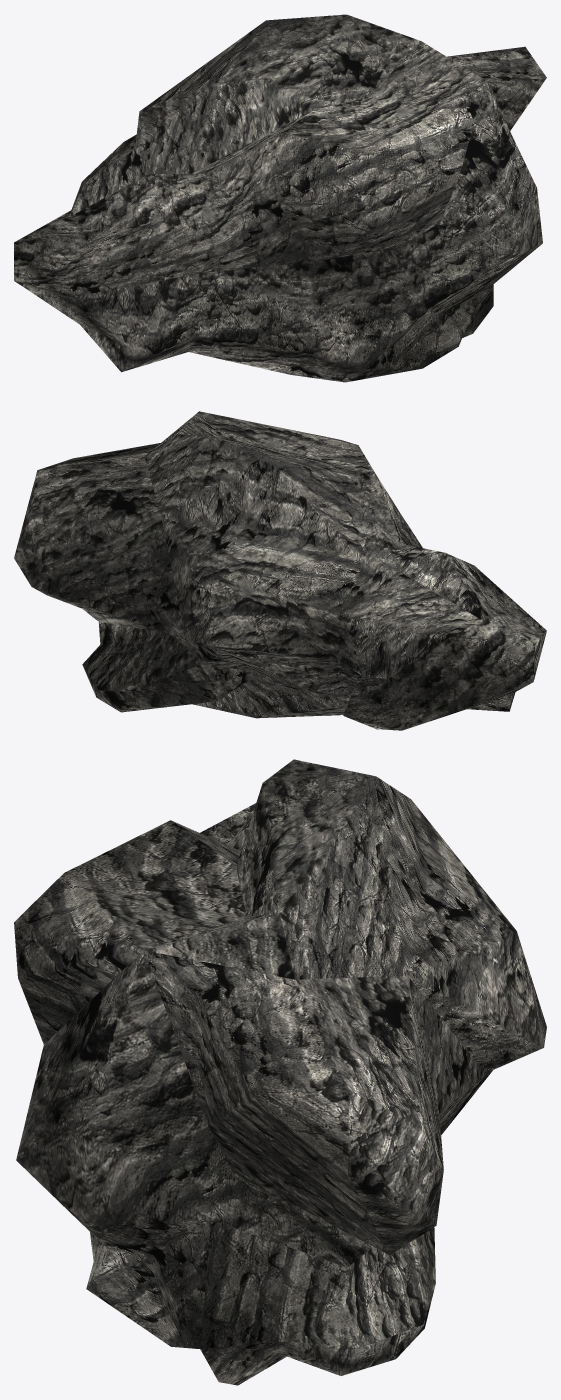
Rendered from Map0001f_Aerolite08.fbx.
3 renders of one model, top to bottom at view 1: azimuth 30°, elevation 25°; view 2: azimuth 150°, elevation 25°; view 3: azimuth 270°, elevation 25°, orthographic. The views are drawn at different scales.
Visible parts, largest first — view 1: Map0001f_Aerolite08; view 2: Map0001f_Aerolite08; view 3: Map0001f_Aerolite08.
Part boxes in pixels (x1,y1,x2,y2): Map0001f_Aerolite08: [14, 14, 546, 382]; Map0001f_Aerolite08: [14, 411, 546, 730]; Map0001f_Aerolite08: [14, 759, 546, 1385].
Bounding box in the file's own units: 6869 × 4063 × 3905.
